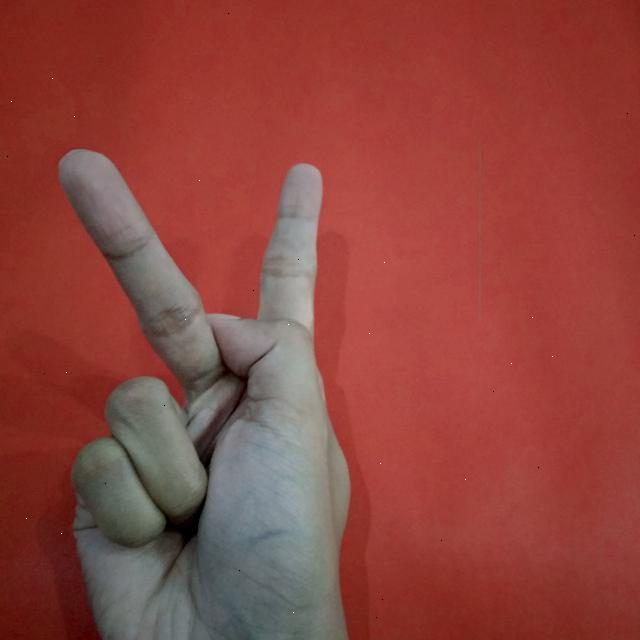K: (46, 143, 366, 640)
